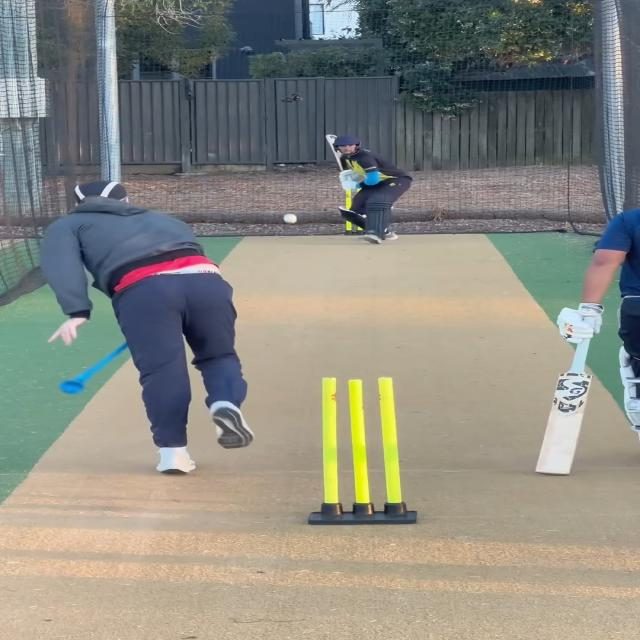ball: (280, 212, 300, 226)
stump: (310, 377, 416, 527)
